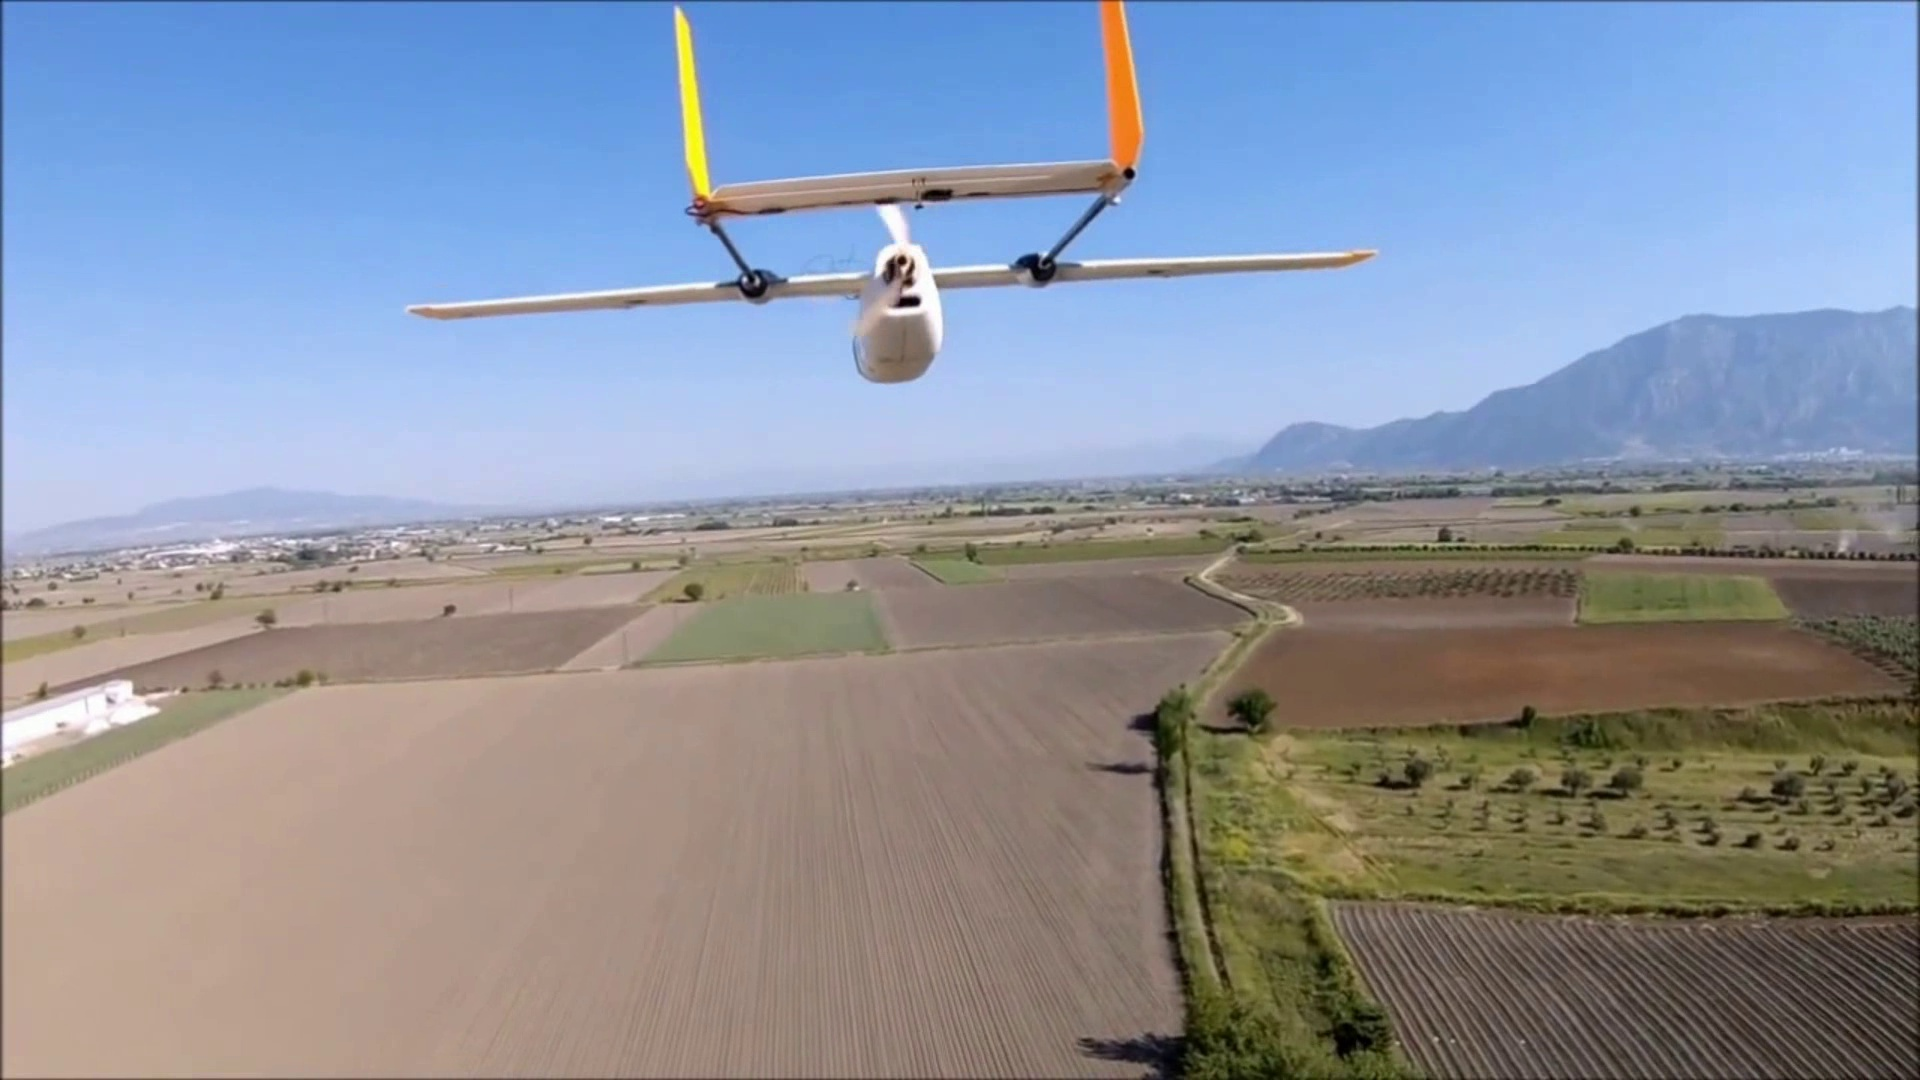airplane: (405, 4, 1371, 376)
